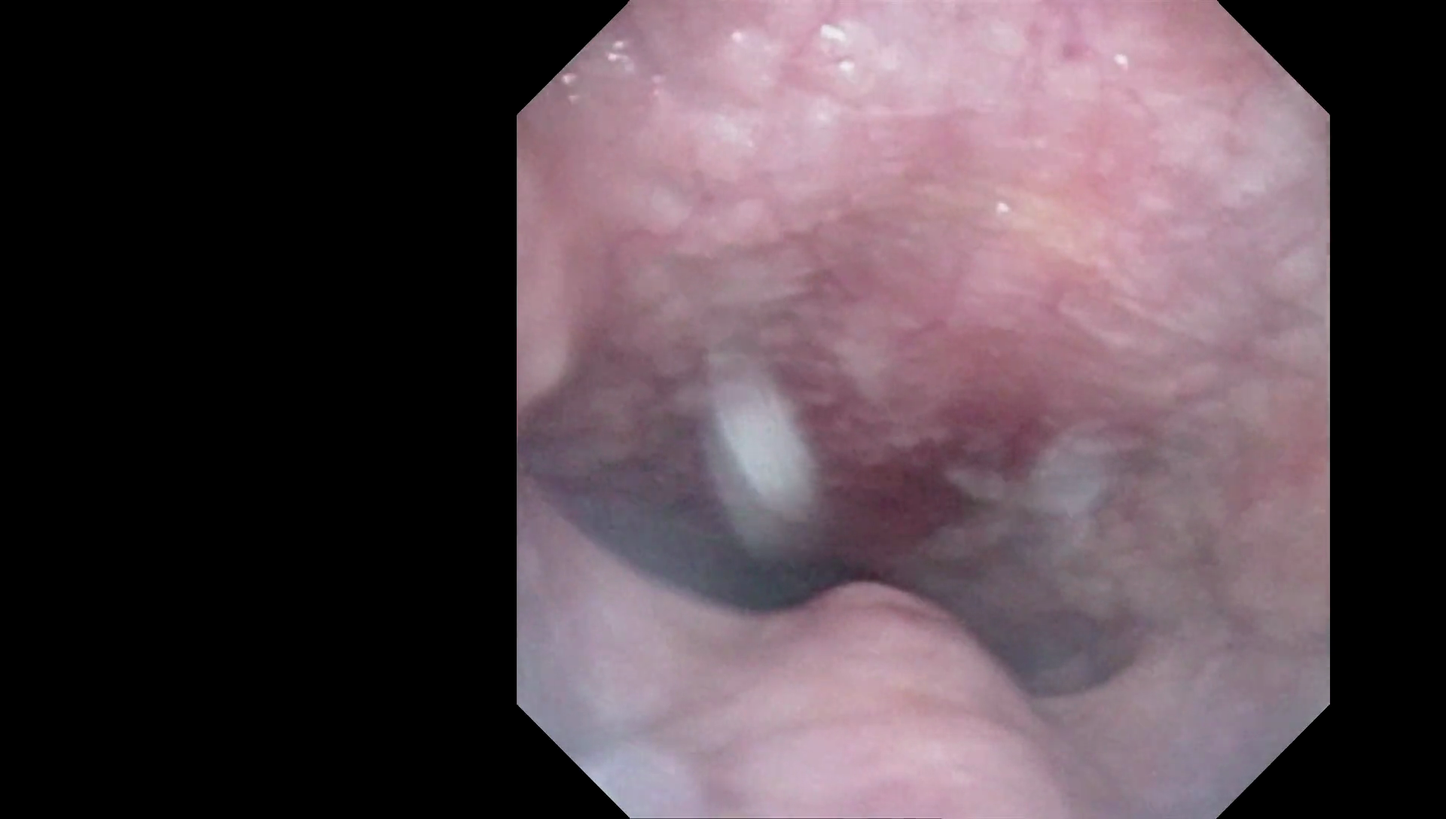next: (615, 489, 864, 659)
